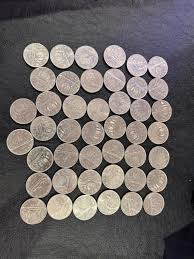coin: (20, 198, 46, 224), (6, 129, 33, 154), (10, 98, 36, 123), (47, 194, 72, 219), (27, 146, 52, 171), (52, 168, 76, 193), (26, 173, 51, 197), (30, 116, 55, 140), (36, 91, 61, 115), (30, 67, 55, 91), (63, 95, 87, 119), (23, 43, 48, 66), (73, 195, 96, 220), (78, 170, 101, 194), (56, 71, 79, 95), (54, 143, 77, 167), (50, 44, 73, 68), (57, 118, 80, 142), (97, 190, 119, 214), (87, 98, 109, 121), (80, 69, 102, 92), (82, 121, 104, 144), (79, 145, 101, 168), (75, 46, 97, 68), (103, 45, 125, 67), (104, 115, 125, 138), (126, 121, 147, 144), (121, 192, 142, 215), (102, 165, 123, 188), (109, 91, 130, 114), (143, 192, 164, 215), (104, 68, 125, 91), (102, 140, 123, 162), (125, 168, 145, 191), (127, 54, 147, 76), (149, 146, 169, 168), (125, 144, 145, 166), (127, 77, 147, 98), (130, 99, 150, 120), (148, 122, 168, 143), (147, 169, 166, 191), (152, 100, 171, 121), (148, 78, 167, 99), (148, 56, 167, 77)
